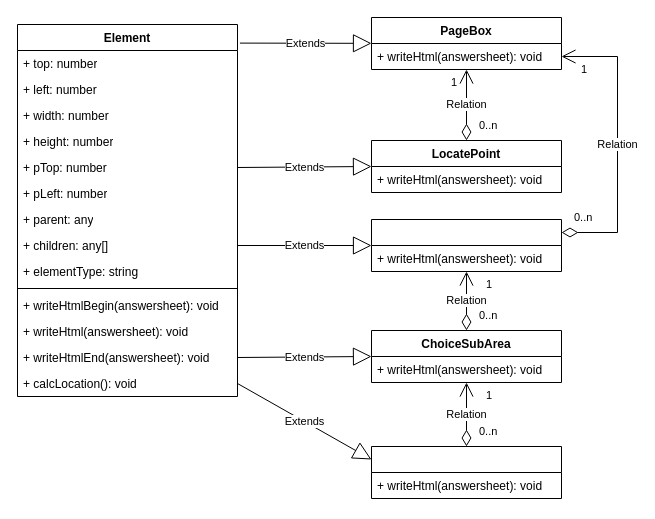
Image size: 655x519. Some labels were removed from this diagram. The box of each missing label's shape, as (x1, y1, x2, y2) in pixels:
ChoiceBox: (370, 218, 562, 272)
ChoiceTopic: (370, 446, 562, 498)
